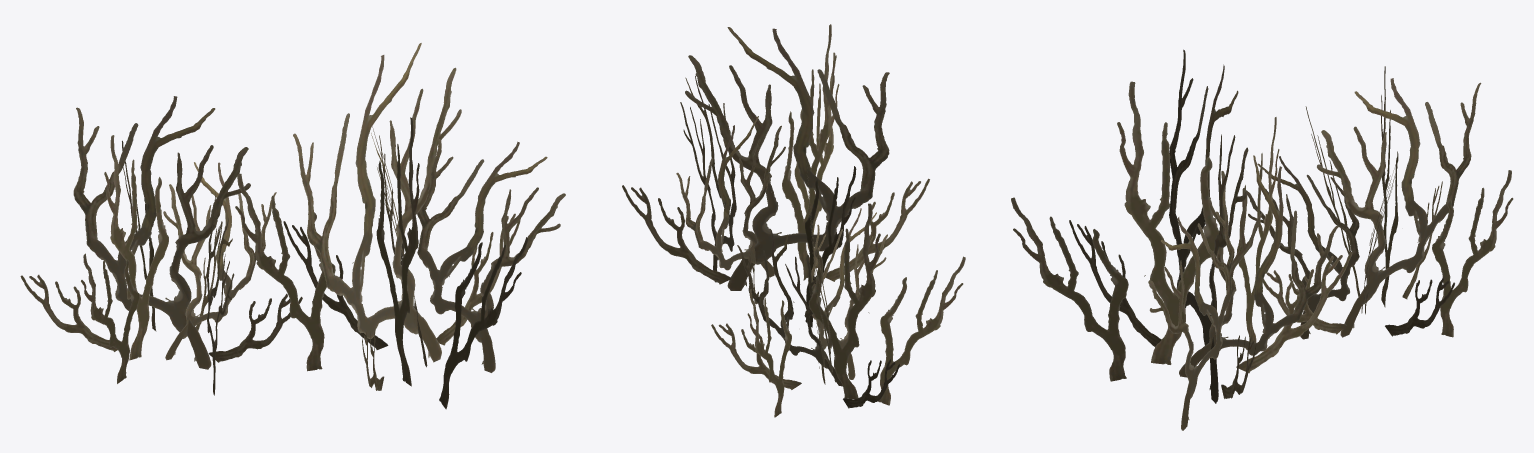
The model's file is Area_15_22.fbx.
3 views of the same model, side by side, from view 1: azimuth 30°, elevation 25°; view 2: azimuth 150°, elevation 25°; view 3: azimuth 270°, elevation 25° (orthographic). The views are drawn at different scales.
Visible parts, largest first — view 1: Area_15_22; view 2: Area_15_22; view 3: Area_15_22.
Boxes of the visible parts, x1,y1,x2,y2 form: Area_15_22: (20, 43, 565, 409); Area_15_22: (622, 24, 965, 417); Area_15_22: (1011, 49, 1513, 430).
Size of the model in its own units: 857 by 659 by 903.
1 material, 1 textured.
